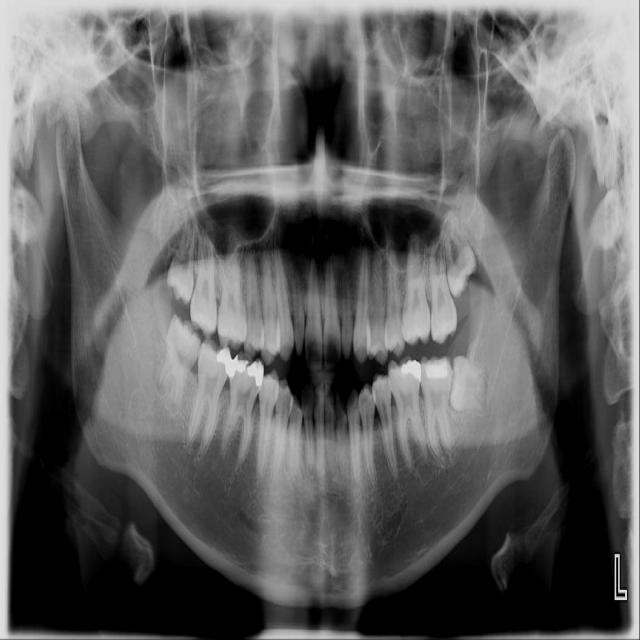Filling: (229, 355, 264, 385), (421, 359, 450, 381), (399, 359, 421, 382), (215, 345, 231, 373), (261, 375, 277, 396), (373, 375, 390, 394)
Periapical lesion: (411, 459, 437, 484), (191, 442, 212, 470), (433, 447, 455, 467)
impacted tooth: (156, 316, 201, 413), (442, 204, 481, 296), (166, 214, 196, 302), (449, 355, 491, 414)
